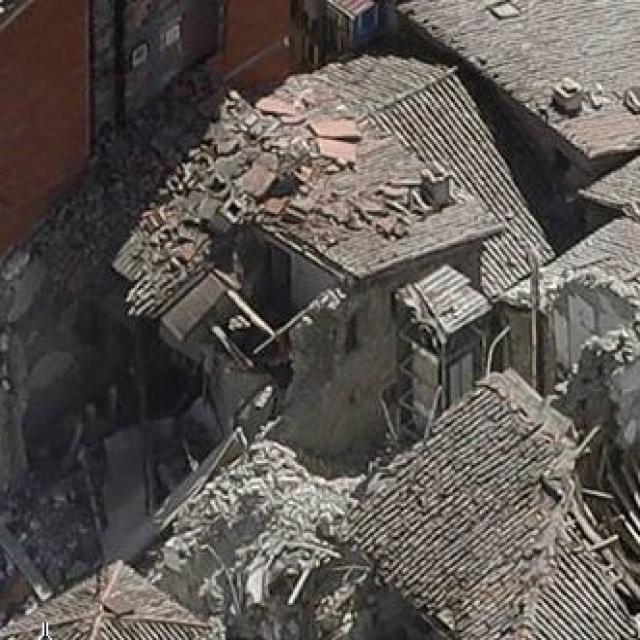collapsed_building: (95, 66, 451, 467)
